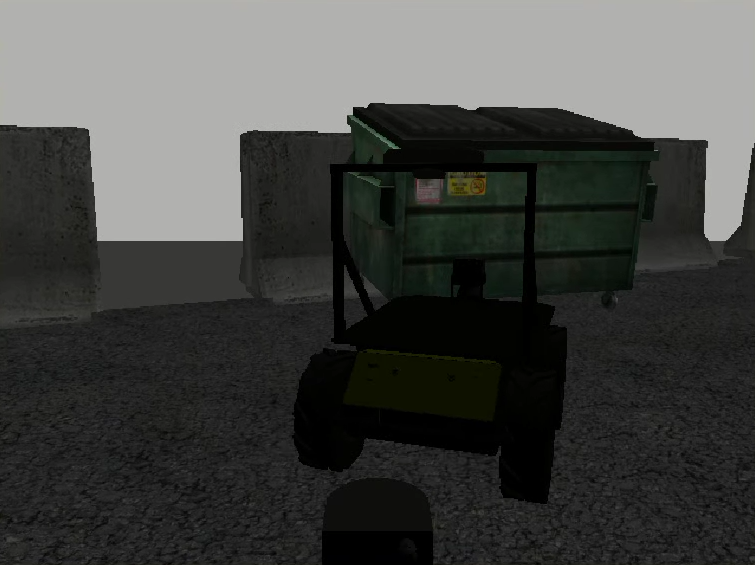husky: (292, 295, 568, 505)
